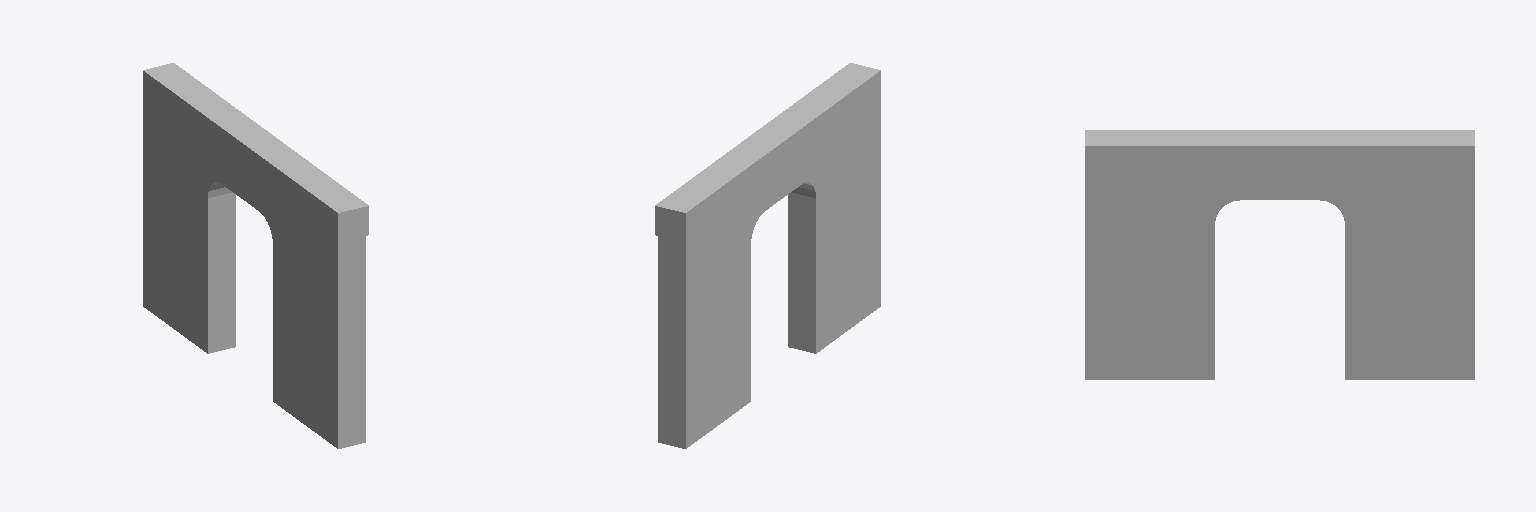
File: tunnel_entrance_1.obj
3 renders of one model, left to right at view 1: azimuth 30°, elevation 25°; view 2: azimuth 150°, elevation 25°; view 3: azimuth 270°, elevation 25°, orthographic.
Visible parts, largest first — view 1: RAIL_BASE_Cube.001; view 2: RAIL_BASE_Cube.001; view 3: RAIL_BASE_Cube.001.
Boxes of the visible parts, <box> form: RAIL_BASE_Cube.001: <box>143,63,368,448</box>; RAIL_BASE_Cube.001: <box>655,63,880,448</box>; RAIL_BASE_Cube.001: <box>1085,130,1474,379</box>.
Size of the model in its own units: 1.1 by 8 by 12.